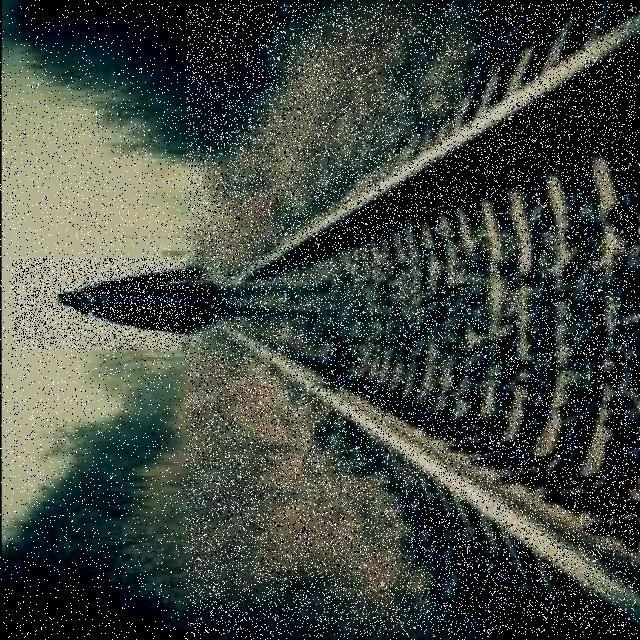danger: (12, 258, 342, 350)
rail: (186, 5, 636, 635)
